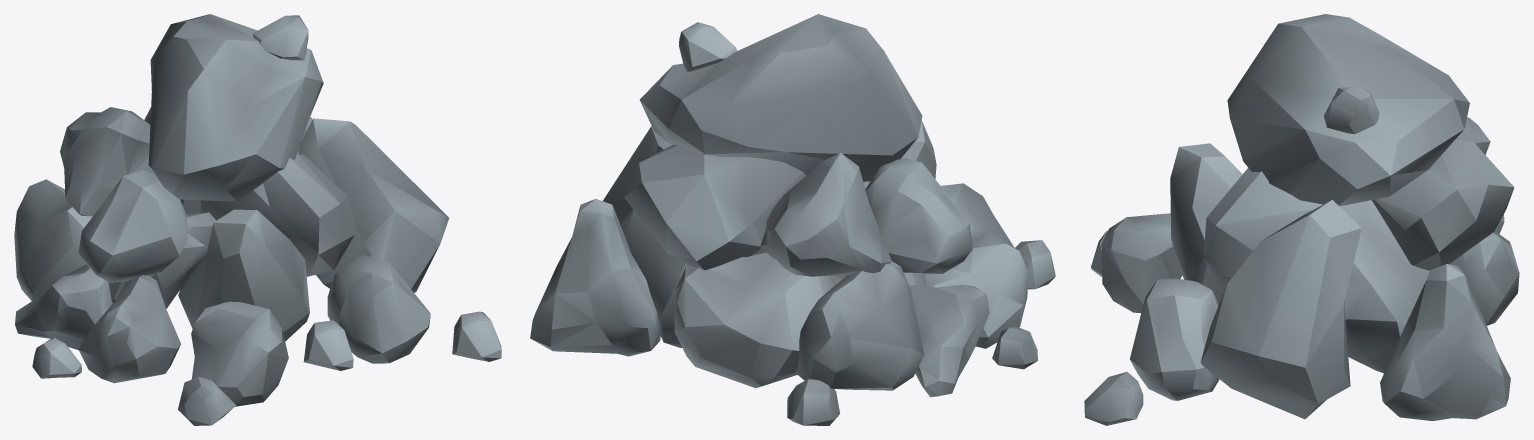
The model's file is stone_heap.glb.
3 views of the same model, side by side, from view 1: azimuth 30°, elevation 25°; view 2: azimuth 150°, elevation 25°; view 3: azimuth 270°, elevation 25° (orthographic). The views are drawn at different scales.
Parts seen in each view (by area): view 1: Stone_Chunks_Large.001; view 2: Stone_Chunks_Large.001; view 3: Stone_Chunks_Large.001.
Part boxes in pixels (box(x1,y1,x2,y2)): Stone_Chunks_Large.001: box(14, 14, 501, 425); Stone_Chunks_Large.001: box(530, 14, 1055, 425); Stone_Chunks_Large.001: box(1084, 14, 1519, 425).
Bounding box in the file's own units: 1.5 × 1.08 × 1.35.
Materials: 1 (1 with a texture image).
